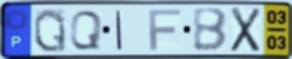B: (191, 7, 229, 53)
F: (147, 8, 183, 52)
I: (114, 9, 123, 52)
Q: (32, 6, 68, 54), (68, 9, 104, 52)
X: (229, 6, 263, 54)
